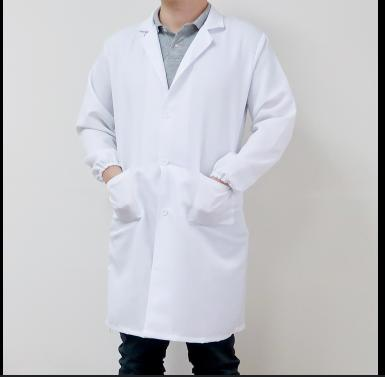lab_coat: (75, 1, 298, 345)
